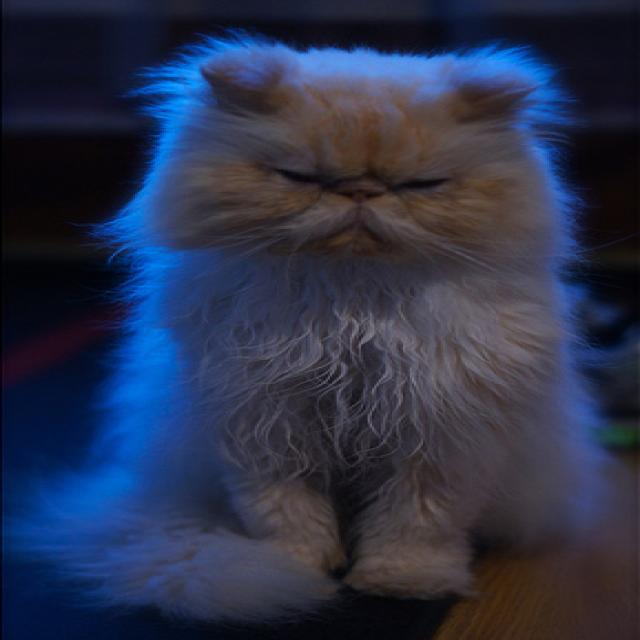Persian: (19, 35, 605, 624)
